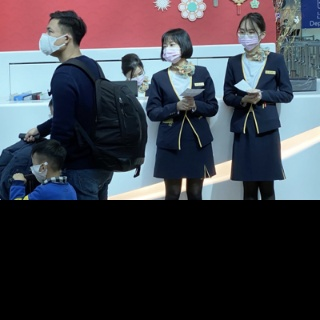with_mask: (38, 26, 64, 56), (238, 27, 260, 51), (162, 40, 182, 65), (126, 68, 145, 86), (30, 160, 44, 182)
